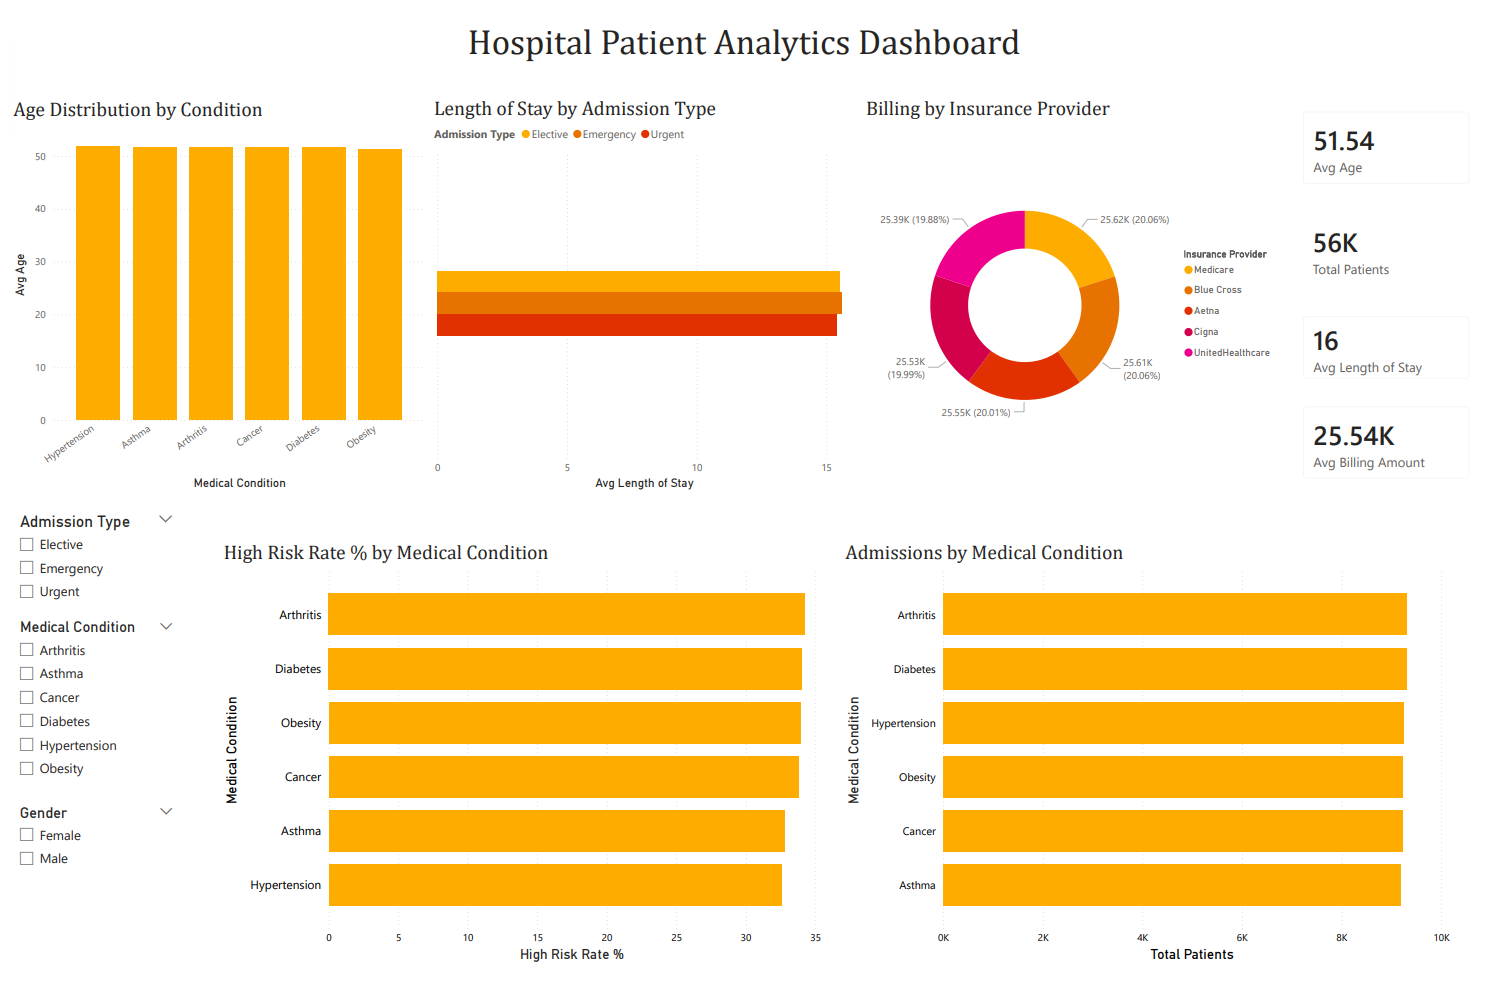

Layout of this report page (visuals, bound fields, positions):
{"tool":"powerbi","page":{"name":"Page 1","canvas":[1800,1200],"ordinal":0},"visuals":[{"type":"cardVisual","fields":{"Data":["healthcare_dataset.Avg Length of Stay"]},"box":[1565,360,237.5,110],"z":0},{"type":"cardVisual","fields":{"Data":["healthcare_dataset.Avg Billing Amount"]},"box":[1565,470,237.5,122.5],"z":1000},{"type":"cardVisual","fields":{"Data":["healthcare_dataset.Total Patients"]},"box":[1565,232.5,237.5,127.5],"z":2000},{"type":"cardVisual","fields":{"Data":["healthcare_dataset.Avg Age"]},"box":[1565,110,237.5,122.5],"z":3000},{"type":"clusteredBarChart","title":"Admissions by Medical Condition","fields":{"Category":["healthcare_dataset.Medical Condition"],"Y":["healthcare_dataset.Total Patients"]},"box":[1018,652,748,518],"z":4000},{"type":"donutChart","title":"Billing by Insurance Provider","fields":{"Category":["healthcare_dataset.Insurance Provider"],"Y":["healthcare_dataset.Avg Billing Amount"]},"box":[1042.5,110,522.5,482.5],"z":5000},{"type":"clusteredColumnChart","title":"Age Distribution by Condition","fields":{"Category":["healthcare_dataset.Medical Condition"],"Y":["healthcare_dataset.Avg Age"]},"box":[1.4,111.1,514,482],"z":6000},{"type":"clusteredBarChart","title":"Length of Stay by Admission Type","fields":{"Y":["healthcare_dataset.Avg Length of Stay"],"Series":["healthcare_dataset.Admission Type"]},"box":[515,110,527.5,482.5],"z":7000},{"type":"clusteredBarChart","fields":{"Category":["healthcare_dataset.Medical Condition"],"Y":["healthcare_dataset.High Risk Rate %"]},"box":[258,652,740,518],"z":8000},{"type":"slicer","fields":{"Values":["healthcare_dataset.Admission Type"]},"box":[1.4,611.4,211.4,130],"z":9000},{"type":"slicer","fields":{"Values":["healthcare_dataset.Medical Condition"]},"box":[1.4,741.4,211.4,225.7],"z":10000},{"type":"slicer","fields":{"Values":["healthcare_dataset.Gender"]},"box":[1.4,967.1,211.4,100],"z":11000},{"type":"textbox","box":[462,16,874,70],"z":12000}]}

Visuals, with their boxes in screenshot pixels (x1, y1, x2, y2), scaled from the page's 1800x1200 canvas onto the 1489x984 screenshot:
cardVisual - healthcare_dataset.Avg Length of Stay: x1=1295 y1=295 x2=1488 y2=385
cardVisual - healthcare_dataset.Avg Billing Amount: x1=1295 y1=385 x2=1488 y2=486
cardVisual - healthcare_dataset.Total Patients: x1=1295 y1=191 x2=1488 y2=295
cardVisual - healthcare_dataset.Avg Age: x1=1295 y1=90 x2=1488 y2=191
"Admissions by Medical Condition" clusteredBarChart: x1=842 y1=535 x2=1461 y2=959
"Billing by Insurance Provider" donutChart: x1=862 y1=90 x2=1295 y2=486
"Age Distribution by Condition" clusteredColumnChart: x1=1 y1=91 x2=426 y2=486
"Length of Stay by Admission Type" clusteredBarChart: x1=426 y1=90 x2=862 y2=486
clusteredBarChart - healthcare_dataset.Medical Condition x healthcare_dataset.High Risk Rate %: x1=213 y1=535 x2=826 y2=959
slicer - healthcare_dataset.Admission Type: x1=1 y1=501 x2=176 y2=608
slicer - healthcare_dataset.Medical Condition: x1=1 y1=608 x2=176 y2=793
slicer - healthcare_dataset.Gender: x1=1 y1=793 x2=176 y2=875
textbox: x1=382 y1=13 x2=1105 y2=71
